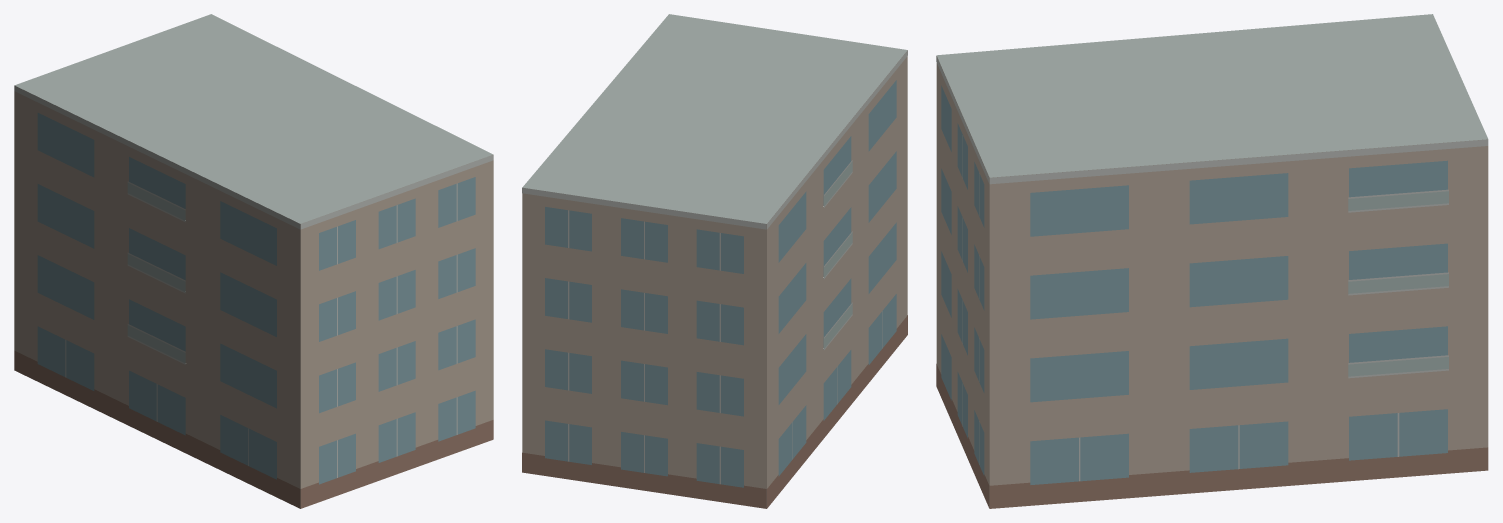
File: survey-upis-32940694.glb
The picture shows the model from 3 angles, left to right: view 1: azimuth 30°, elevation 25°; view 2: azimuth 150°, elevation 25°; view 3: azimuth 270°, elevation 25°; orthographic projection. The views are drawn at different scales.
Parts seen in each view (by area): view 1: survey-upis-32940694.tmp; view 2: survey-upis-32940694.tmp; view 3: survey-upis-32940694.tmp.
Part boxes in pixels (x1=…): survey-upis-32940694.tmp: x1=14, y1=14, x2=493, y2=508; survey-upis-32940694.tmp: x1=522, y1=14, x2=907, y2=508; survey-upis-32940694.tmp: x1=936, y1=14, x2=1488, y2=508.
Size of the model in its own units: 12.94 by 12.2 by 18.44.
